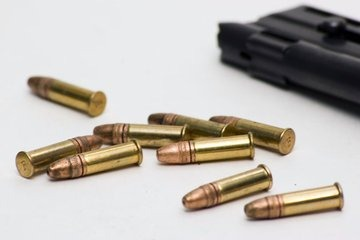bullet: (237, 178, 344, 220), (24, 68, 109, 119), (180, 163, 271, 210), (158, 131, 254, 165)
